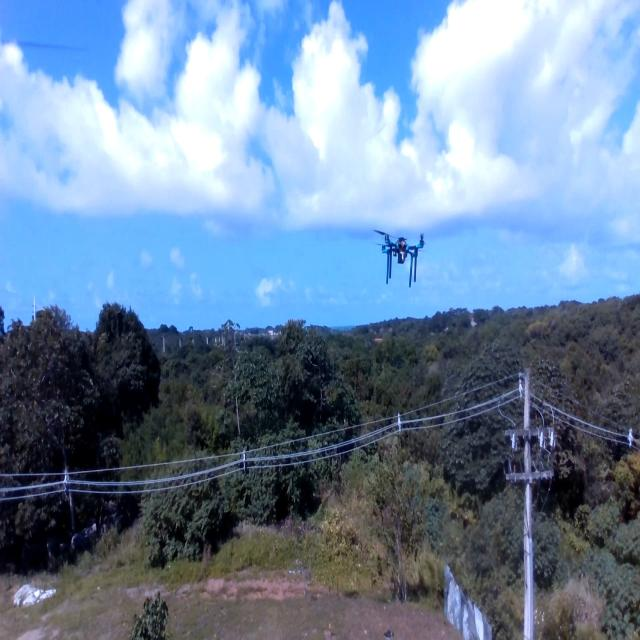-uav-: (364, 209, 440, 311)
